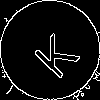K: (25, 25, 81, 81)
